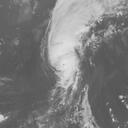cyclone: (47, 4, 95, 91)
